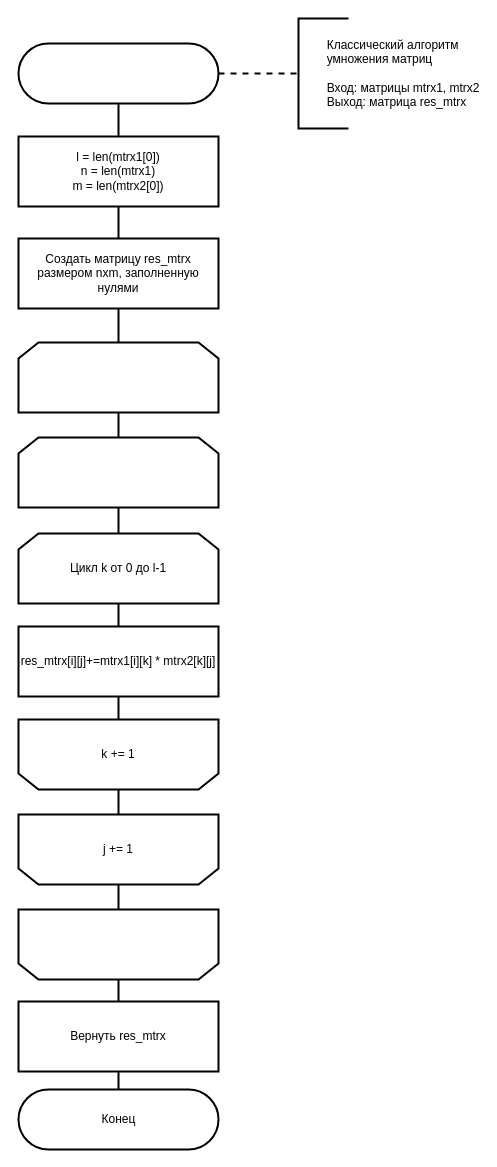
Some shapes in this 497 by 1167 pixel diagram are drawn without their labels. The box of each missing label's shape, as (x1, y1, x2, y2) in pixels:
i += 1: (17, 908, 219, 980)
Начало: (17, 42, 219, 104)
Цикл i от 0 до n-1: (17, 341, 219, 413)
Цикл j от 0 до m-1: (17, 436, 219, 508)
